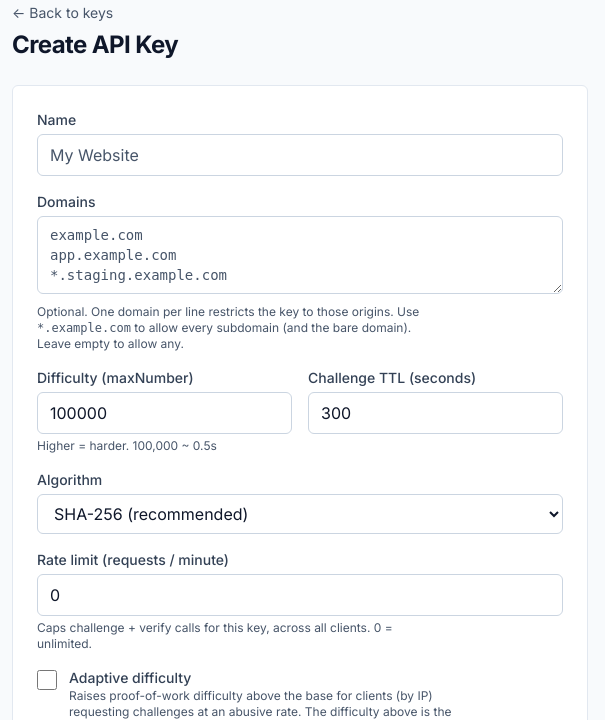
Test: ApiKeyFormView › creates key on submit
The width and height of the screenshot is (605, 720).
Type "New Key" into the field with id "key-name" at (300, 155), box x1=37 y1=134 x2=563 y2=176
(page scrolled)
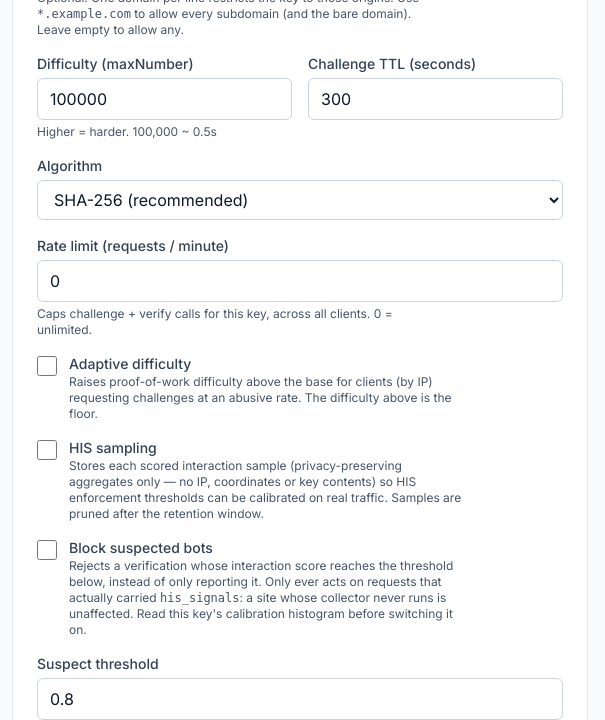
Submit the form
(page scrolled)
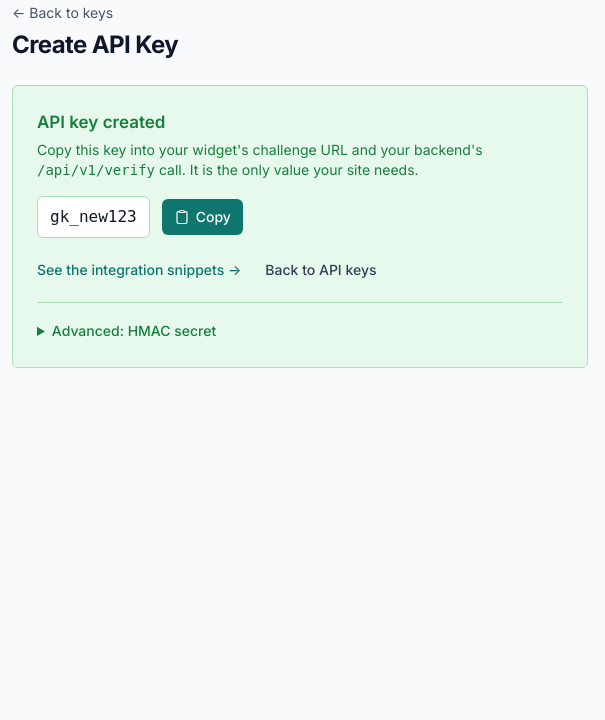
Expected: the text "API key created" is shown, x1=37 y1=112 x2=165 y2=132
Expected: the text "gk_new123" is shown, x1=37 y1=196 x2=150 y2=238
